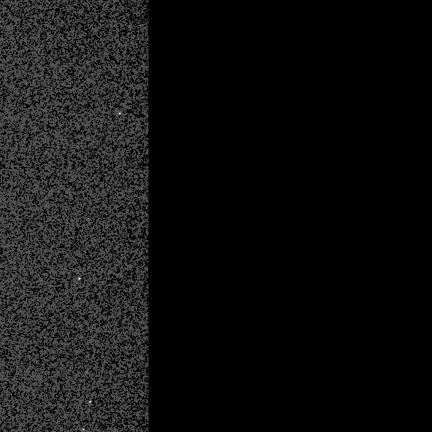blob: (79, 278, 81, 281)
